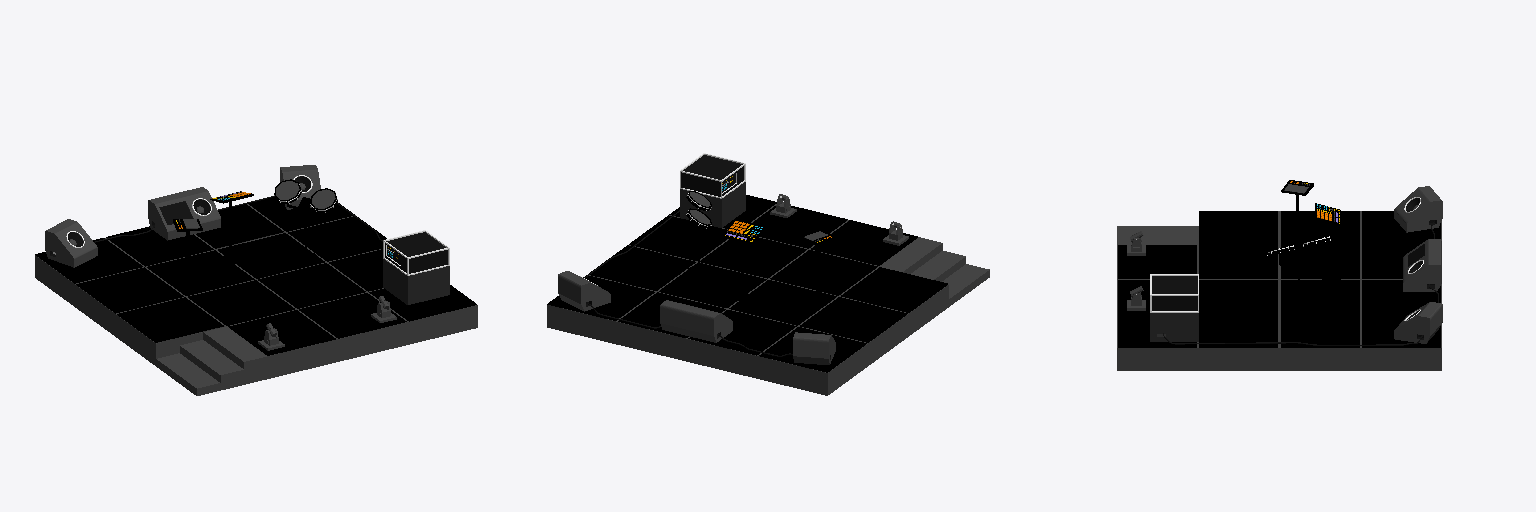
The model's file is petitbiscuit_base-scene.obj.
The picture shows the model from 3 angles: view 1: azimuth 30°, elevation 25°; view 2: azimuth 150°, elevation 25°; view 3: azimuth 270°, elevation 25°; orthographic projection.
Visible parts, largest first — view 1: petitbiscuit_base-scene.obj; view 2: petitbiscuit_base-scene.obj; view 3: petitbiscuit_base-scene.obj.
Part boxes in pixels (bbox=[...]): petitbiscuit_base-scene.obj: bbox=[35, 165, 477, 395]; petitbiscuit_base-scene.obj: bbox=[547, 153, 989, 395]; petitbiscuit_base-scene.obj: bbox=[1117, 180, 1442, 370].
Bounding box in the file's own units: 500 × 159 × 502.